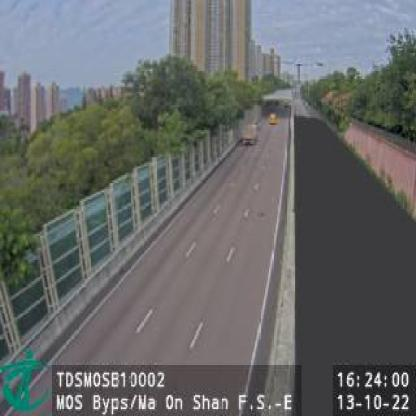Truck: (242, 122, 259, 147)
